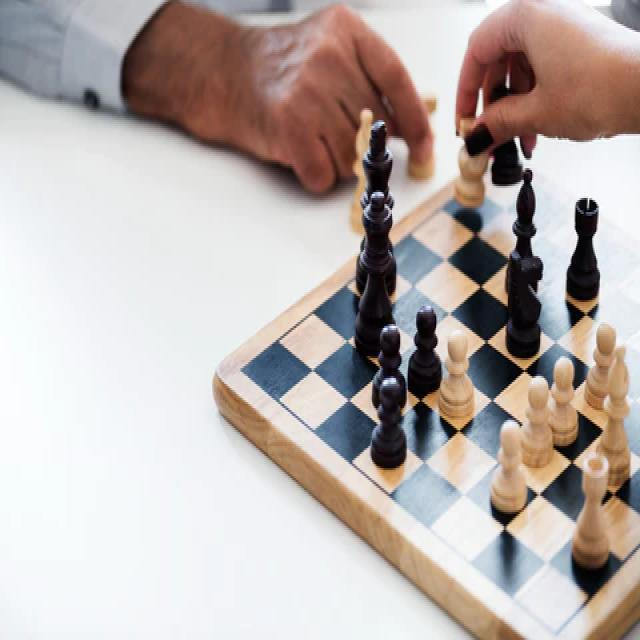chess-table-corners: (231, 354, 256, 386), (546, 616, 566, 640)
